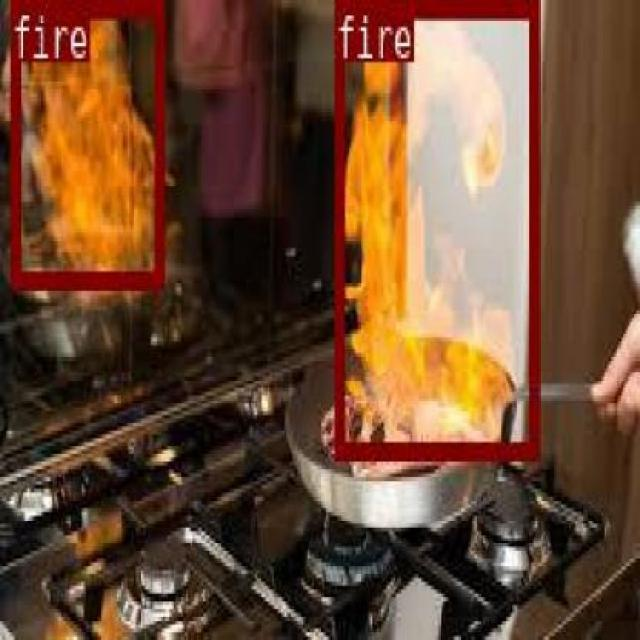Fire: (332, 0, 536, 454), (8, 0, 164, 283)
